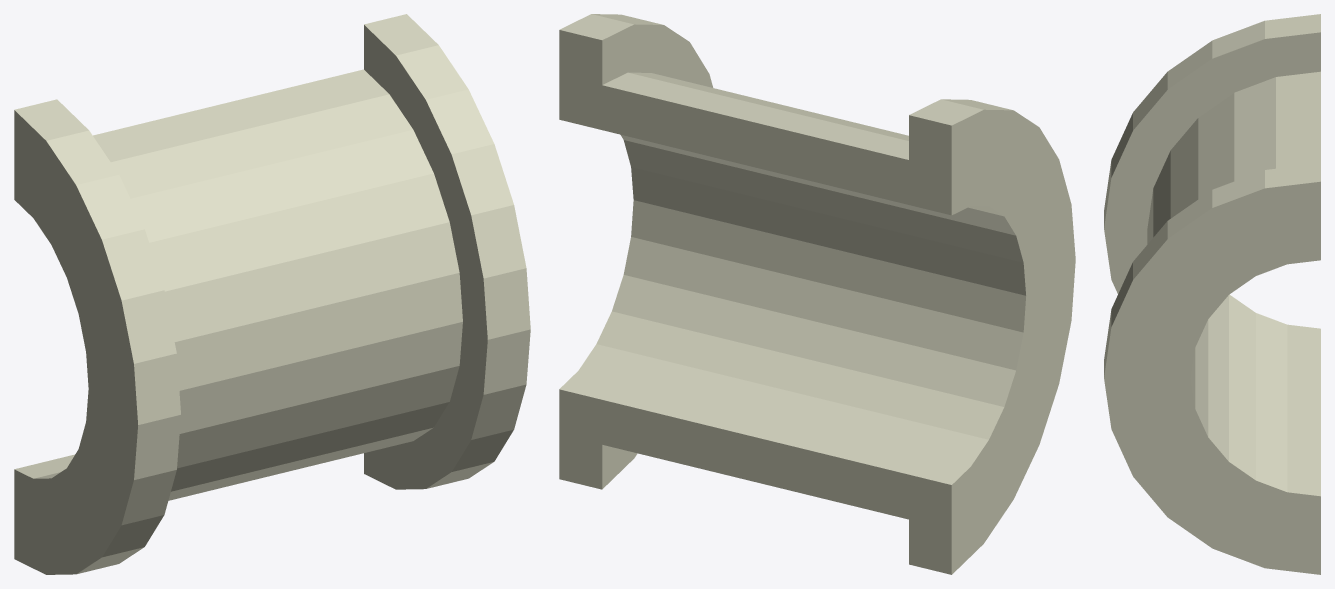
Rendered from section_391.obj.
The picture shows the model from 3 angles, left to right: view 1: azimuth 30°, elevation 25°; view 2: azimuth 150°, elevation 25°; view 3: azimuth 270°, elevation 25°; orthographic projection. The views are drawn at different scales.
Size of the model in its own units: 9.14 by 10 by 5.
